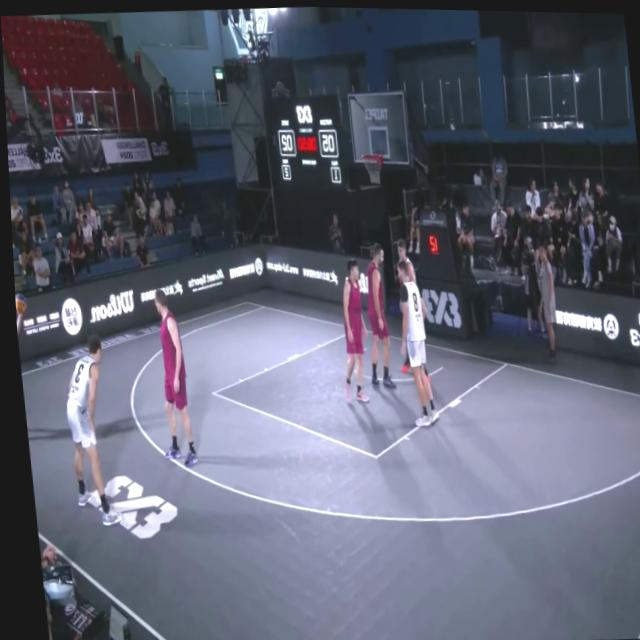ball: (12, 295, 24, 315)
hoop: (359, 151, 384, 183)
player: (55, 335, 118, 526), (146, 287, 193, 468), (391, 263, 435, 425), (385, 230, 428, 387), (328, 255, 370, 402), (355, 239, 395, 389)
